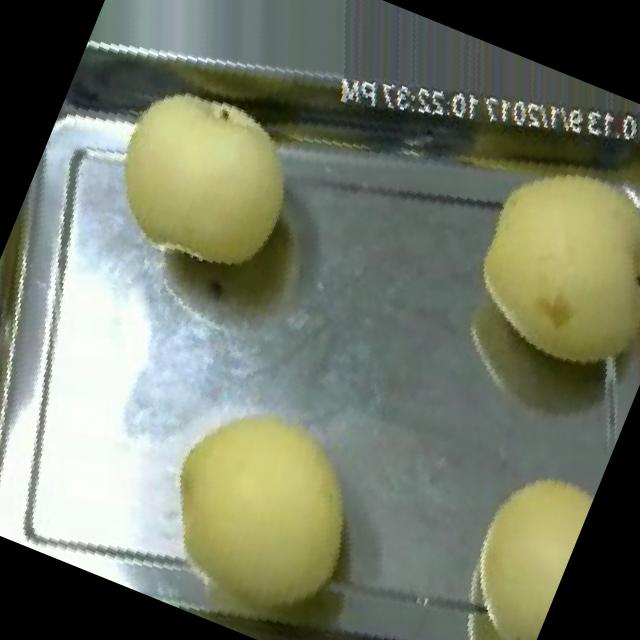Fruit: (107, 356, 416, 640), (56, 39, 349, 324), (417, 109, 640, 414), (405, 423, 605, 640)
